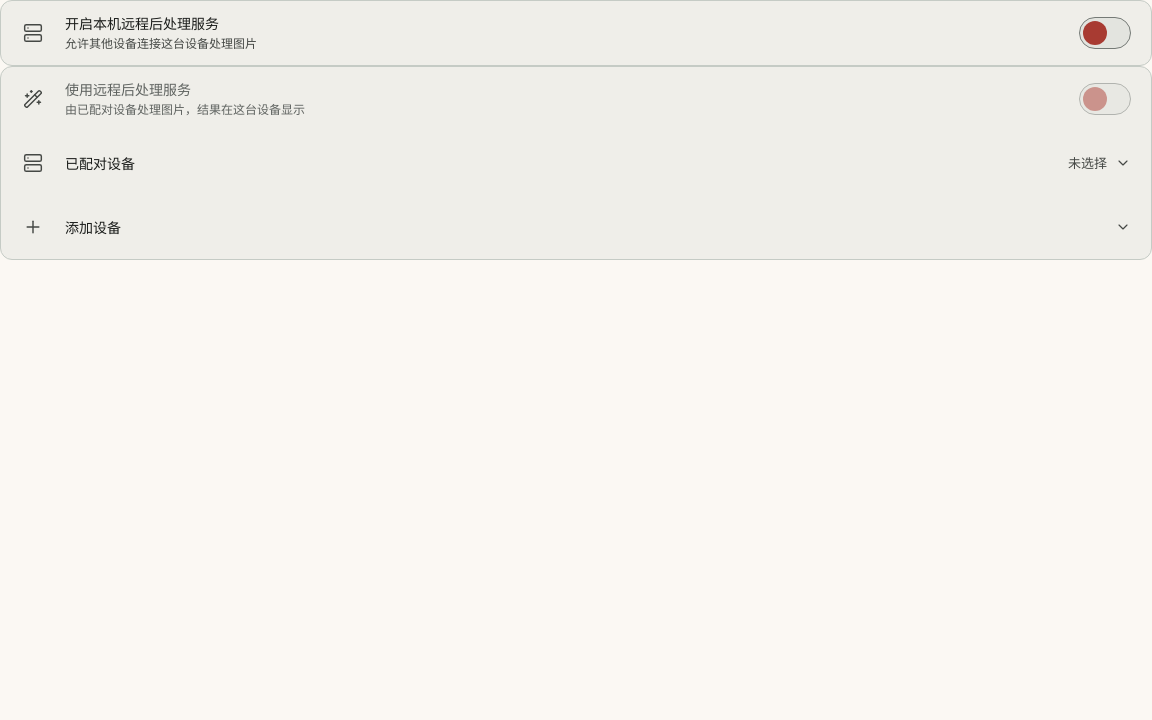
Test: iOS device discovery › searches when opened and lets the user retry or enter an address after a failure
Click the button "添加设备" at x=93, y=228, box [1,195,1151,259]
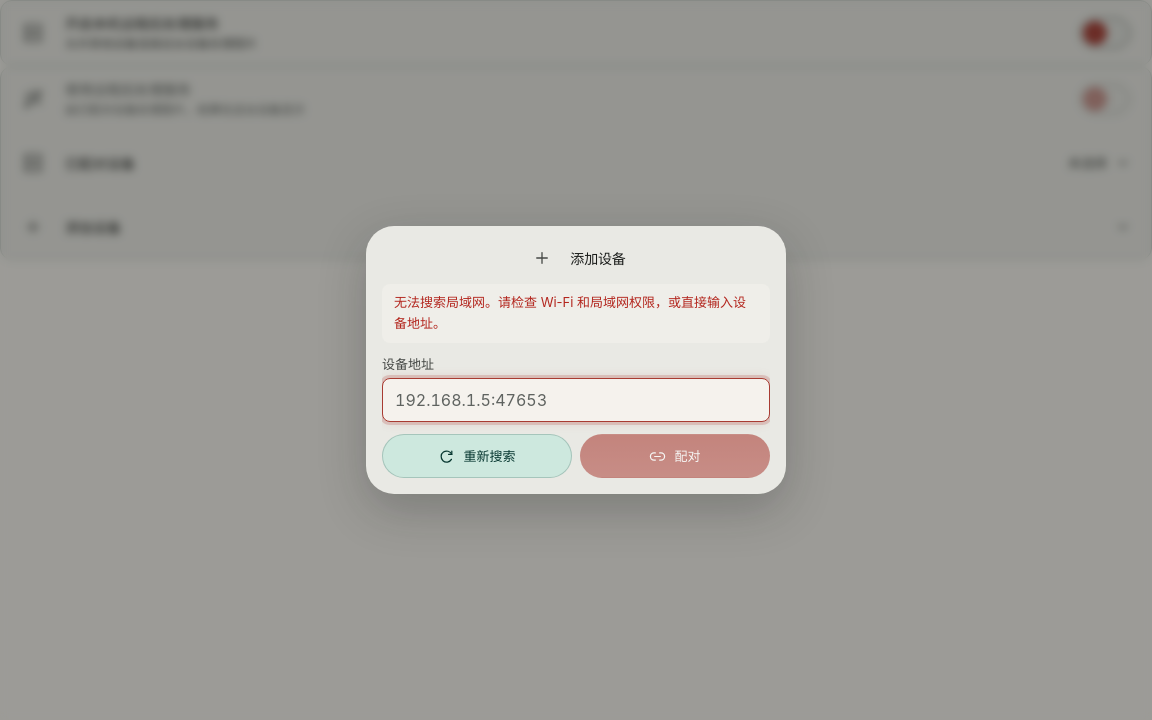
Now the text "无法搜索局域网。请检查 Wi-Fi 和局域网权限，或直接输入设备地址。" is shown, box [382,284,770,343]
Now the field labelled "设备地址" is enabled, box [382,378,770,422]
Click the button "重新搜索" at x=477, y=456, box [382,434,572,478]
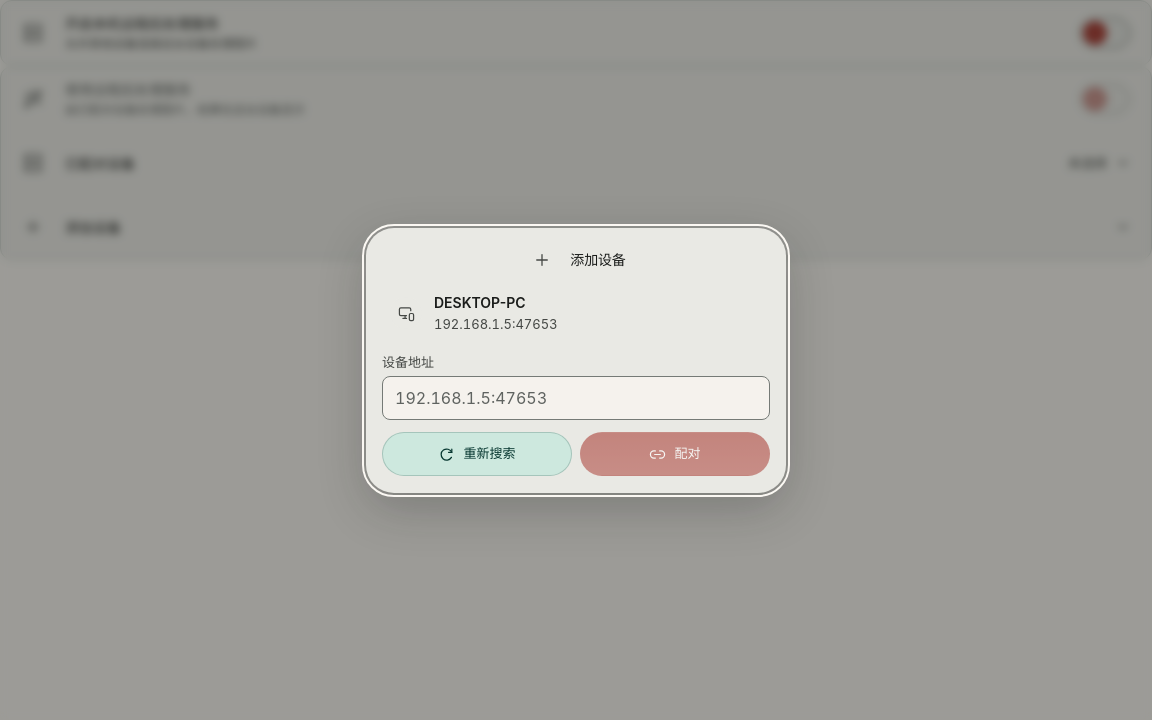
Click the text "DESKTOP-PC" at x=480, y=303, box [434,294,526,312]
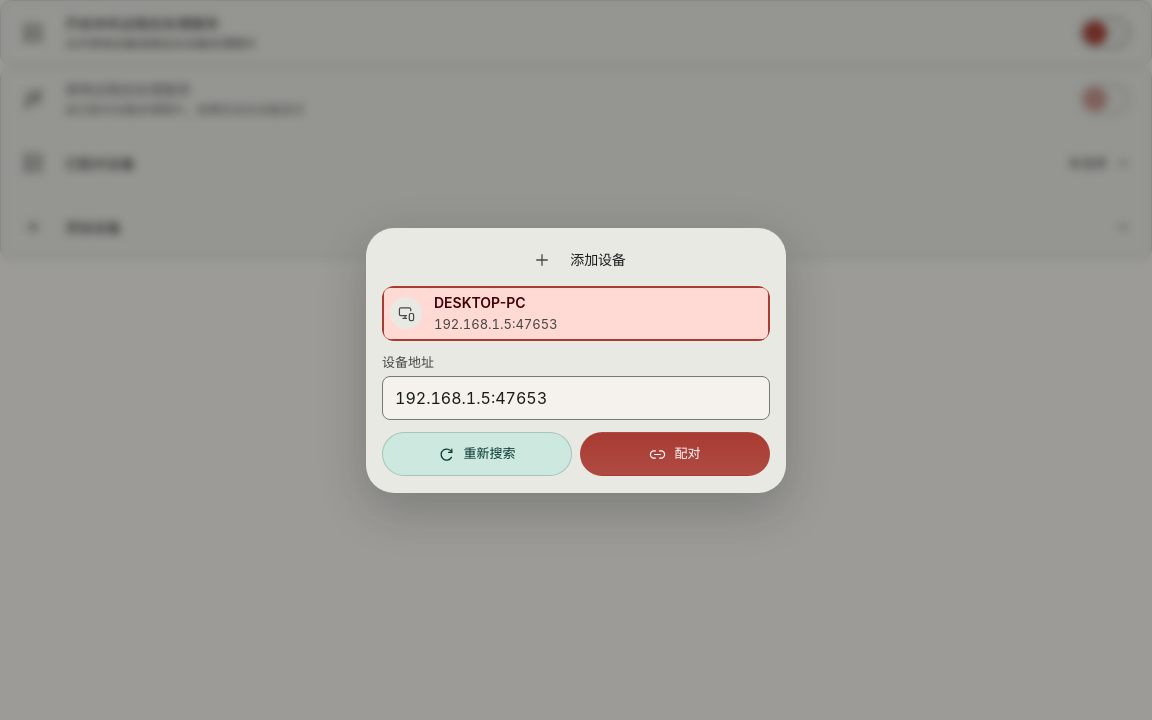
Now the field labelled "设备地址" holds "192.168.1.5:47653", box [382,376,770,420]
